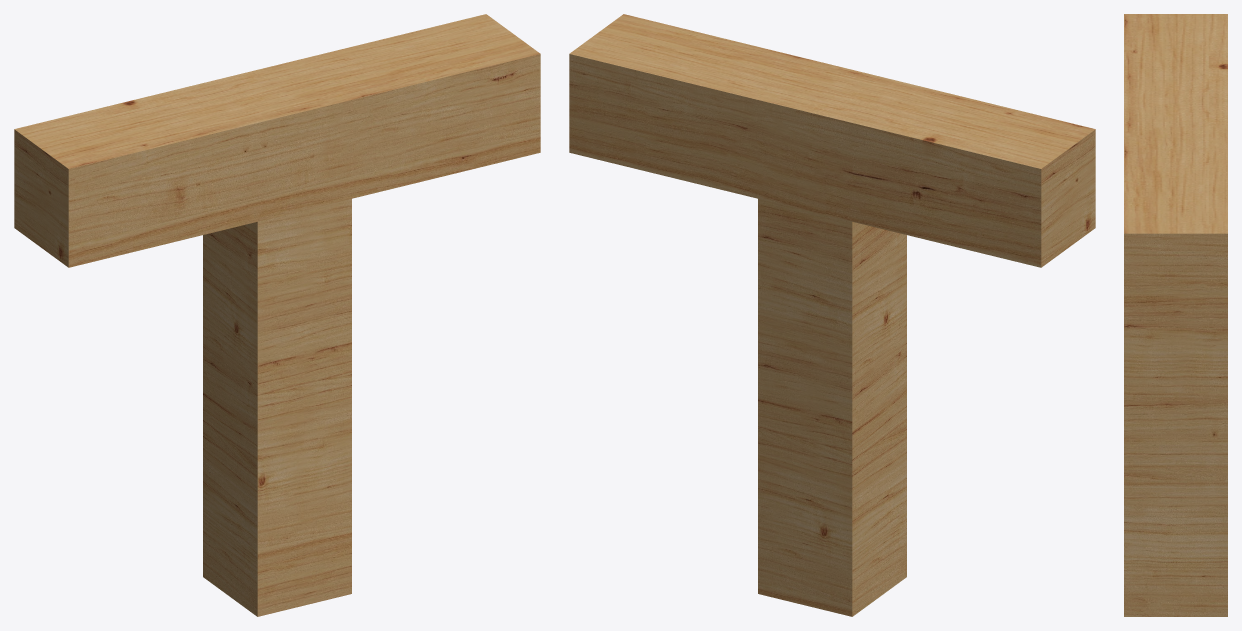
The model's file is fence.dae.
3 renders of one model, left to right at view 1: azimuth 30°, elevation 25°; view 2: azimuth 150°, elevation 25°; view 3: azimuth 270°, elevation 25°, orthographic. The views are drawn at different scales.
Visible parts, largest first — view 1: Cube; view 2: Cube; view 3: Cube.
Part boxes in pixels (box(x1,y1,x2,y2)): Cube: box(14, 14, 540, 616); Cube: box(569, 14, 1095, 616); Cube: box(1124, 14, 1227, 616).
Size of the model in its own units: 1 by 0.2 by 1.
Materials: 1 (1 with a texture image).
